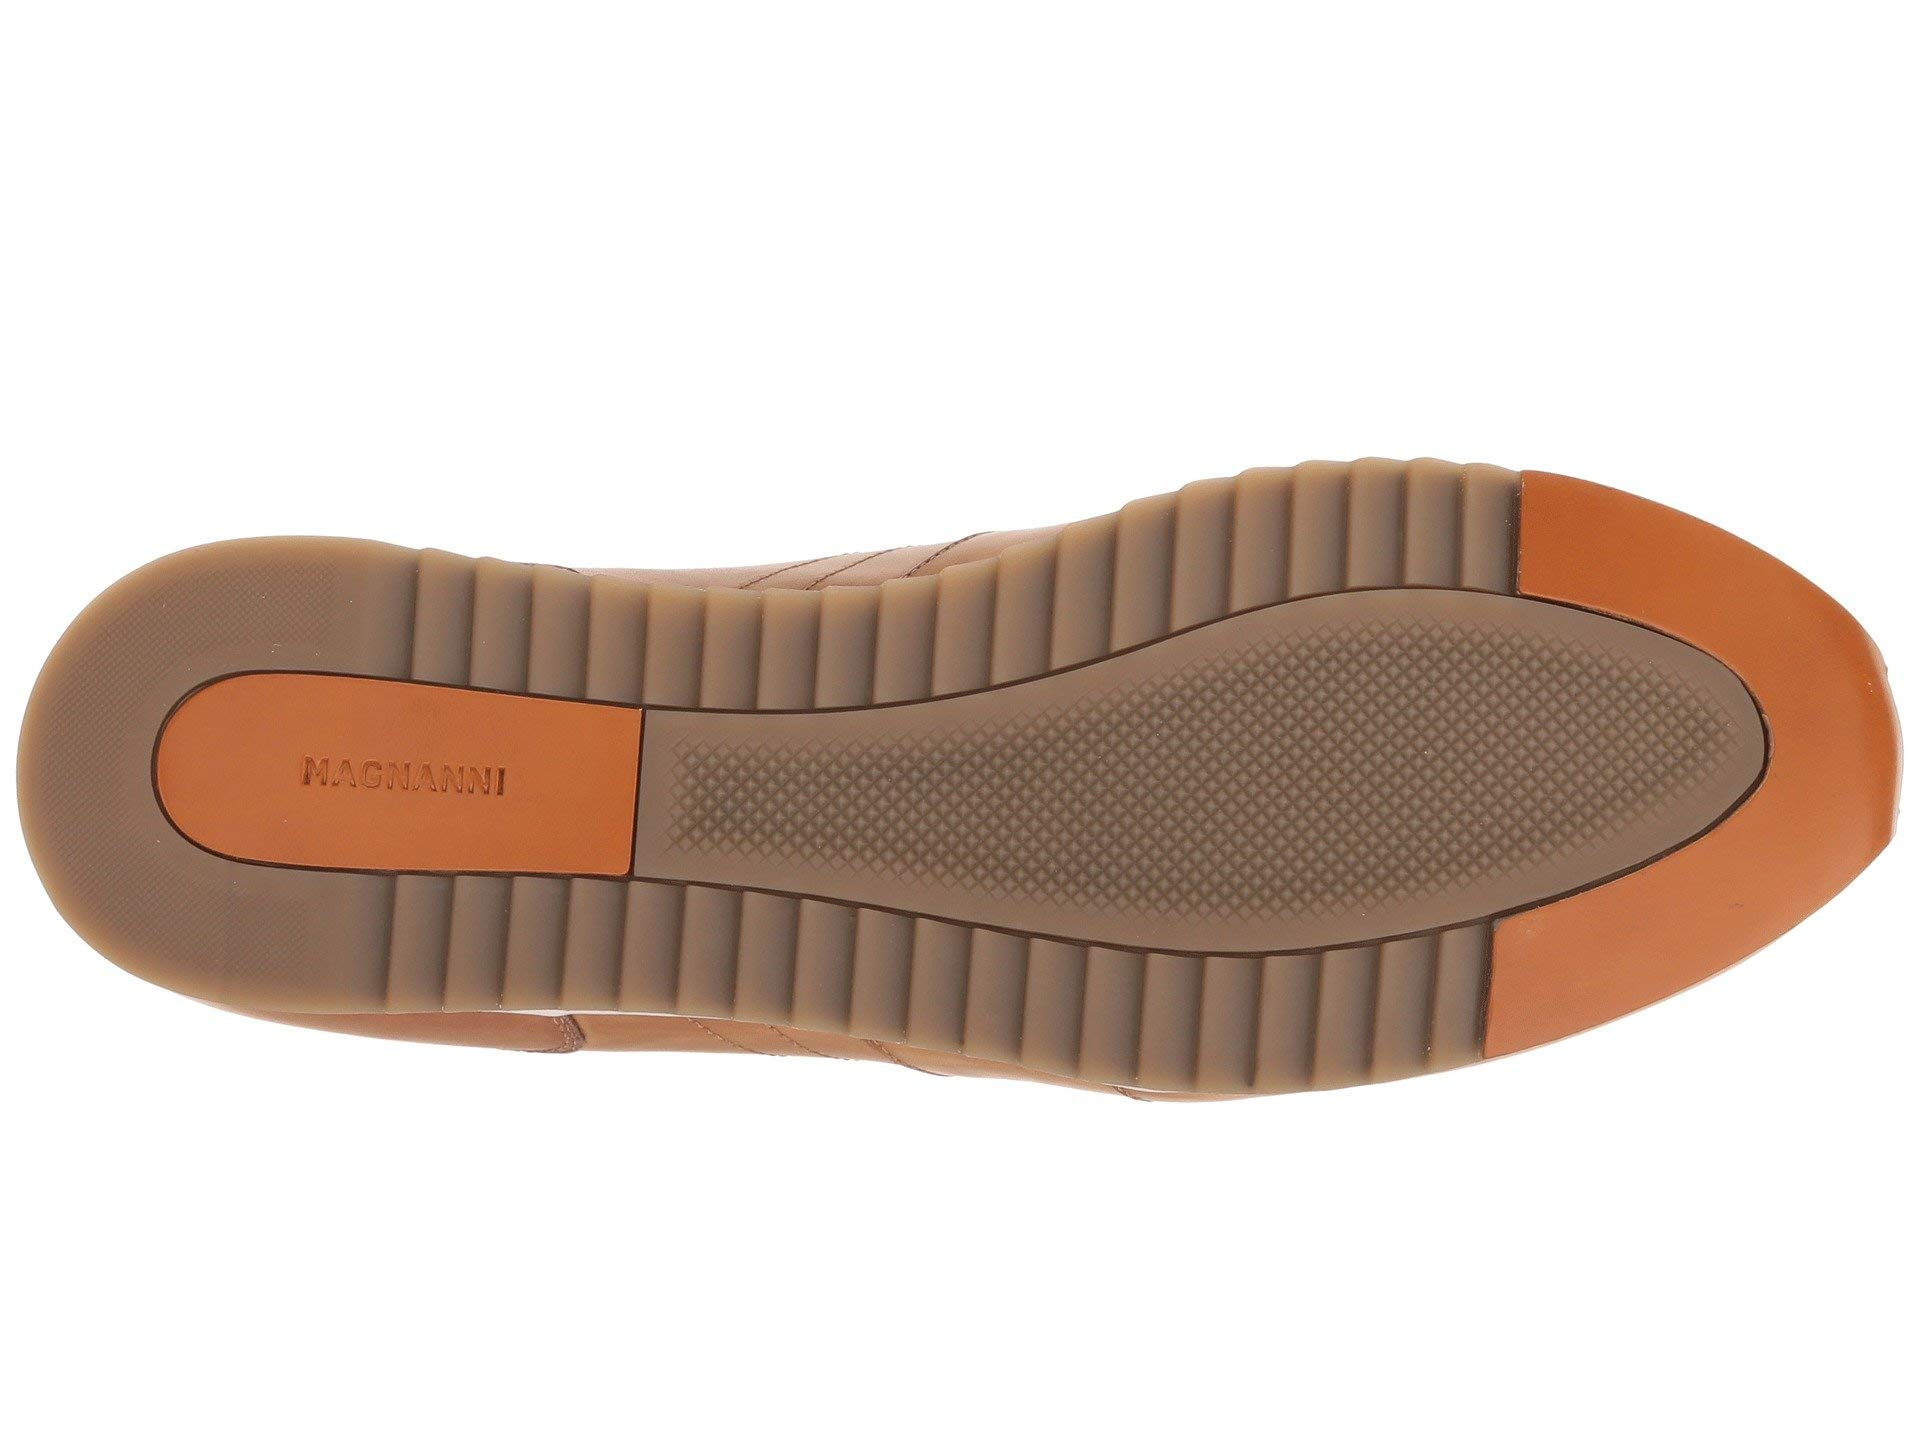line: (1178, 470, 1411, 691), (636, 802, 822, 1023)
star: (1178, 470, 1411, 691), (636, 802, 822, 1023), (1089, 746, 1271, 905)
text: (286, 737, 537, 832)
